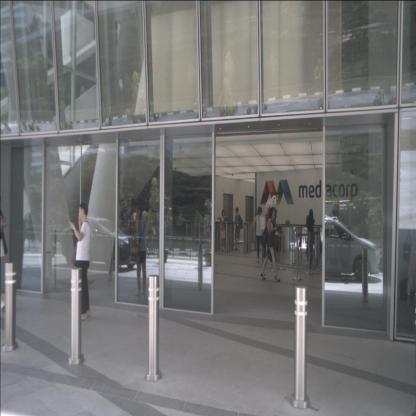human-pedestrian-adult: (68, 202, 91, 322), (260, 207, 282, 283), (0, 197, 9, 313), (251, 206, 266, 263), (305, 209, 316, 271), (217, 209, 228, 252), (234, 207, 243, 252)
vehicle-car: (290, 216, 380, 280), (61, 218, 141, 270)
